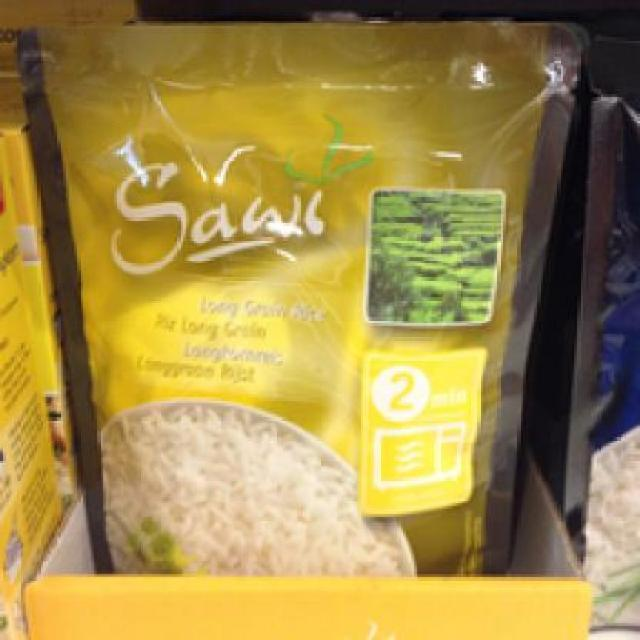Rice: (14, 17, 574, 574)
